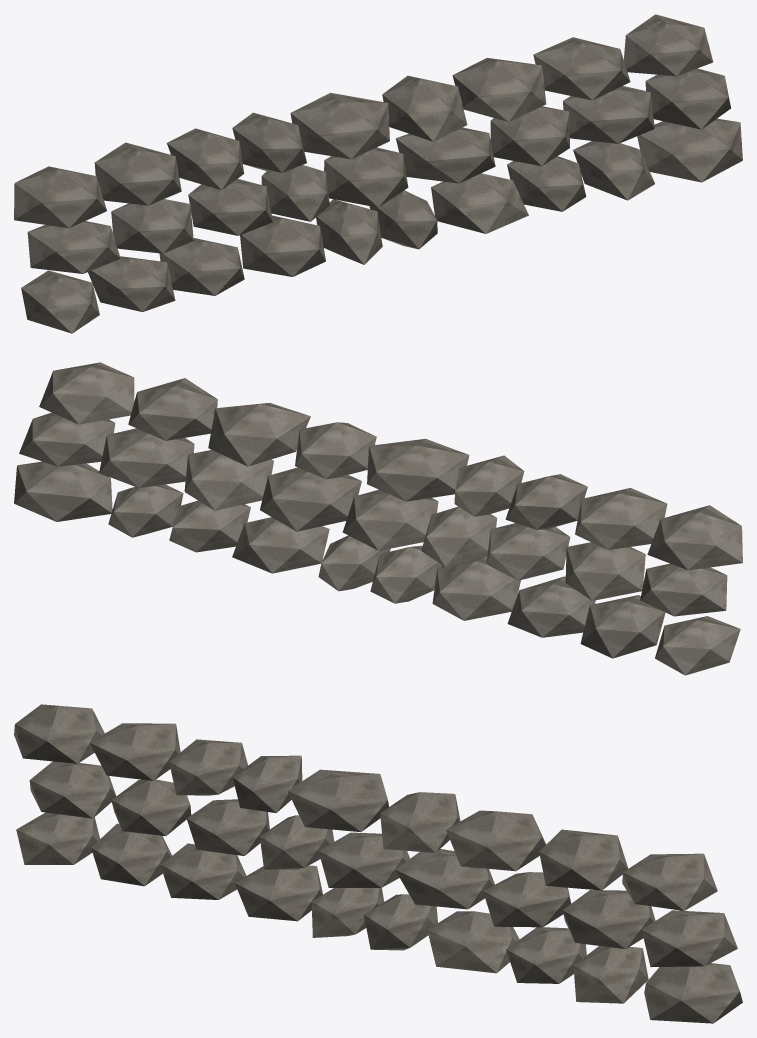
File: stone_fence_4m.glb
3 renders of one model, top to bottom at view 1: azimuth 30°, elevation 25°; view 2: azimuth 150°, elevation 25°; view 3: azimuth 330°, elevation 25°, orthographic.
Parts seen in each view (by area): view 1: Stone_Fence_4m; view 2: Stone_Fence_4m; view 3: Stone_Fence_4m.
Boxes of the visible parts, x1,y1,x2,y2 form: Stone_Fence_4m: [14, 14, 742, 333]; Stone_Fence_4m: [14, 362, 742, 675]; Stone_Fence_4m: [14, 704, 742, 1023].
Size of the model in its own units: 4.34 by 0.9278 by 0.5301.
1 material, 1 textured.
